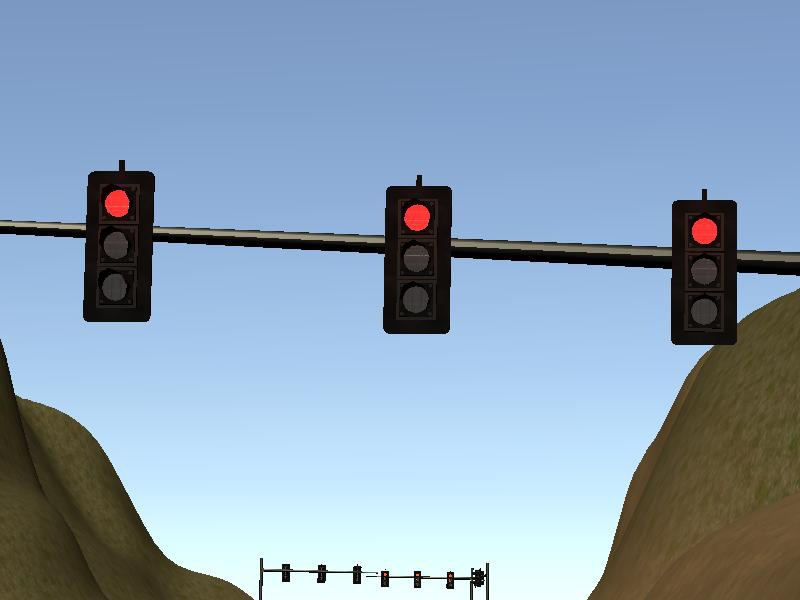red_light: (673, 203, 738, 342), (90, 174, 149, 320), (390, 188, 448, 332)
